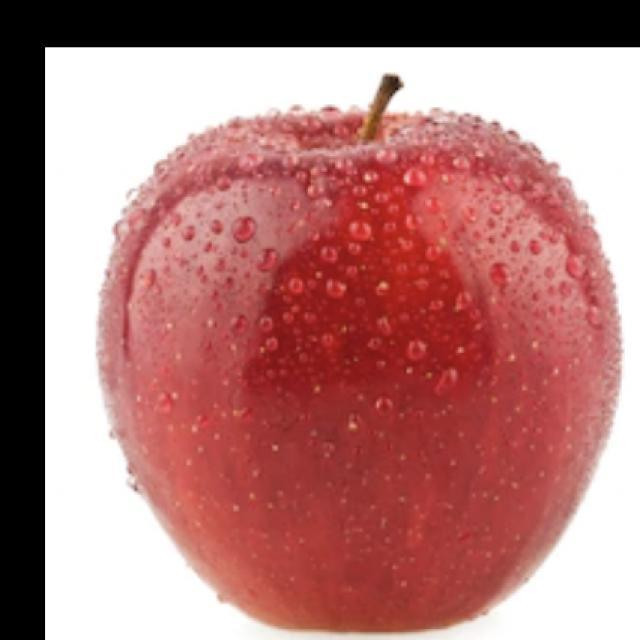Fresh Apple: (111, 110, 606, 640)
